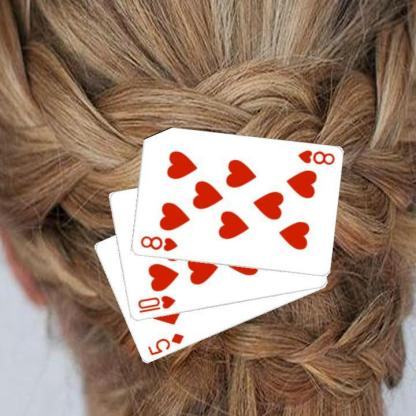10H: (135, 293, 176, 315)
5D: (145, 331, 185, 357)
8H: (295, 148, 336, 166), (138, 234, 178, 252)
